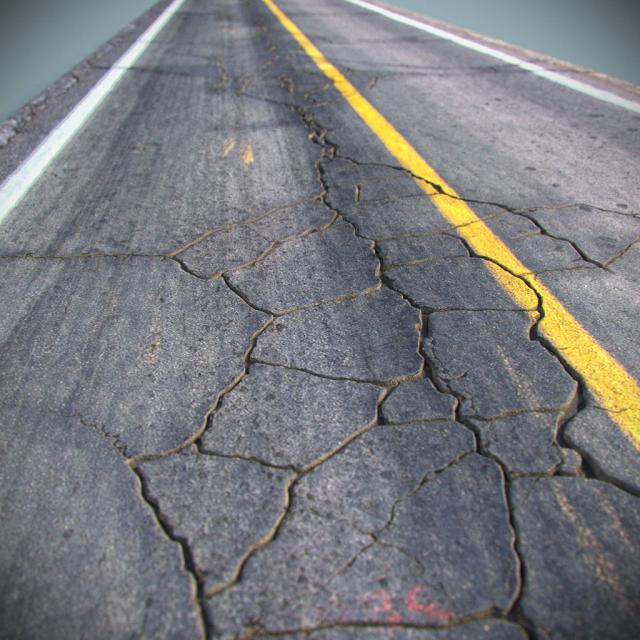Drain Hole: (198, 173, 638, 640)
